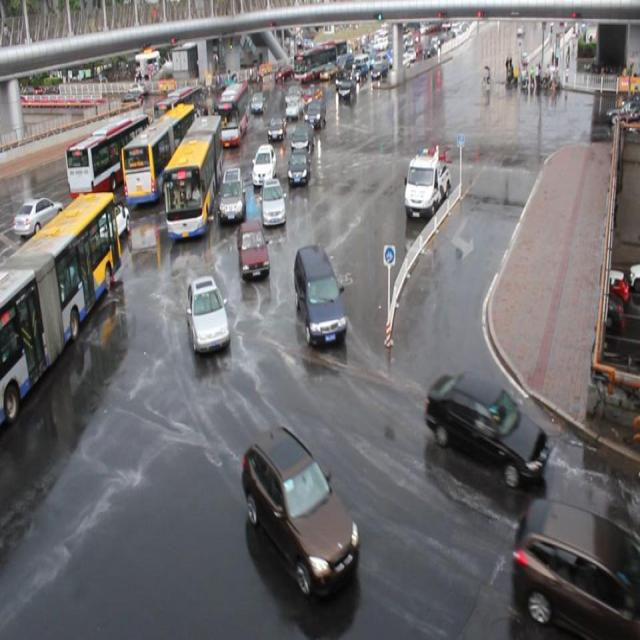bus: (404, 146, 450, 220)
car: (243, 428, 360, 596), (516, 493, 640, 640), (429, 369, 549, 488), (294, 243, 349, 347), (186, 273, 231, 354), (239, 221, 270, 282), (88, 200, 130, 242), (15, 196, 62, 232), (219, 167, 245, 221), (260, 177, 286, 225), (252, 143, 274, 185), (286, 149, 309, 184), (291, 118, 311, 153), (266, 110, 287, 142), (304, 96, 324, 128), (286, 97, 303, 119), (250, 90, 265, 113)
van: (1, 193, 124, 433), (121, 99, 196, 207), (162, 114, 225, 242), (64, 114, 152, 202), (216, 77, 252, 145), (155, 86, 202, 130)
